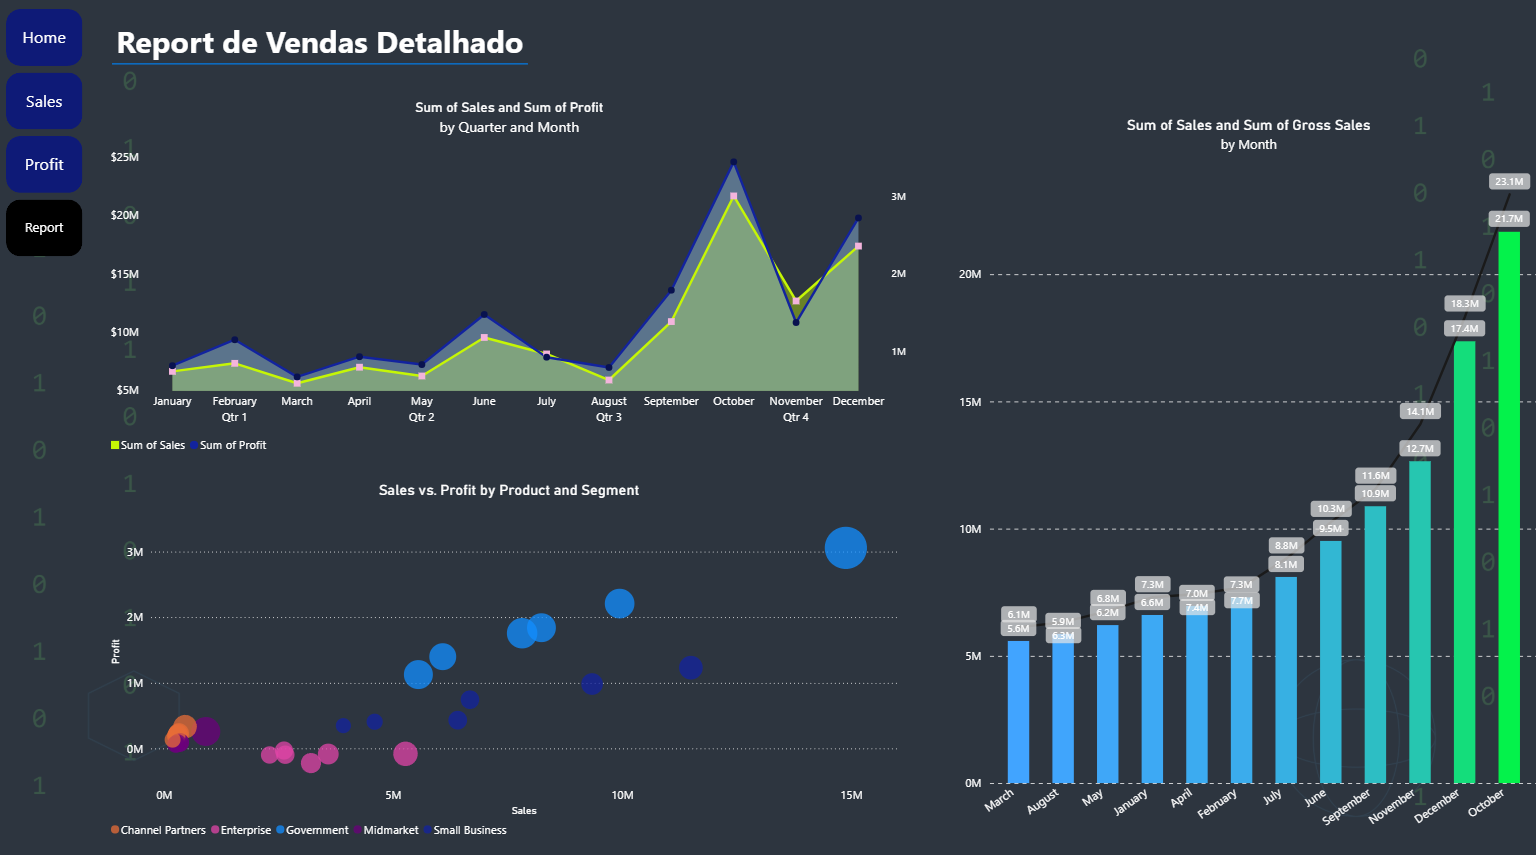

The dashboard page shown, as its layout file describes it:
{"tool":"powerbi","page":{"name":"Report","canvas":[1920,1080],"ordinal":3},"visuals":[{"type":"lineClusteredColumnComboChart","fields":{"Category":["financials.Date.Variation.Date Hierarchy.Month"],"Y":["Sum(financials.Sales)"],"Y2":["Sum(financials.Gross Sales)"]},"box":[1164.4,129.1,744.2,920.1],"z":0},{"type":"areaChart","fields":{"Category":["financials.Date.Variation.Date Hierarchy.Quarter","financials.Date.Variation.Date Hierarchy.Month"],"Y":["Sum(financials.Sales)"],"Y2":["Sum(financials.Profit)"]},"box":[122.2,107.8,1013.2,469.2],"z":1000},{"type":"textbox","box":[122.8,24,545.5,54.4],"z":2000},{"type":"shape","box":[140.5,64.5,511.3,26.6],"z":3000},{"type":"pageNavigator","box":[10.1,11.4,94.8,304.2],"z":10001},{"type":"scatterChart","title":"Sales vs. Profit by Product and Segment","fields":{"Category":["financials.Product"],"Series":["financials.Segment"],"Size":["Sum(financials.Units Sold)"],"X":["Sum(financials.Sales)"],"Y":["Sum(financials.Profit)"]},"box":[122,577,1013,472],"z":10002}]}

Visuals, with their boxes in screenshot pixels (x1, y1, x2, y2), scaled from the page's 1920x1080 canvas onto the 1536x855 screenshot:
lineClusteredColumnComboChart - financials.Date.Variation.Date Hierarchy.Month x Sum(financials.Sales): (x1=932, y1=102, x2=1527, y2=831)
areaChart - financials.Date.Variation.Date Hierarchy.Quarter x financials.Date.Variation.Date Hierarchy.Month: (x1=98, y1=85, x2=908, y2=457)
textbox: (x1=98, y1=19, x2=535, y2=62)
shape: (x1=112, y1=51, x2=521, y2=72)
pageNavigator: (x1=8, y1=9, x2=84, y2=250)
"Sales vs. Profit by Product and Segment" scatterChart: (x1=98, y1=457, x2=908, y2=830)
